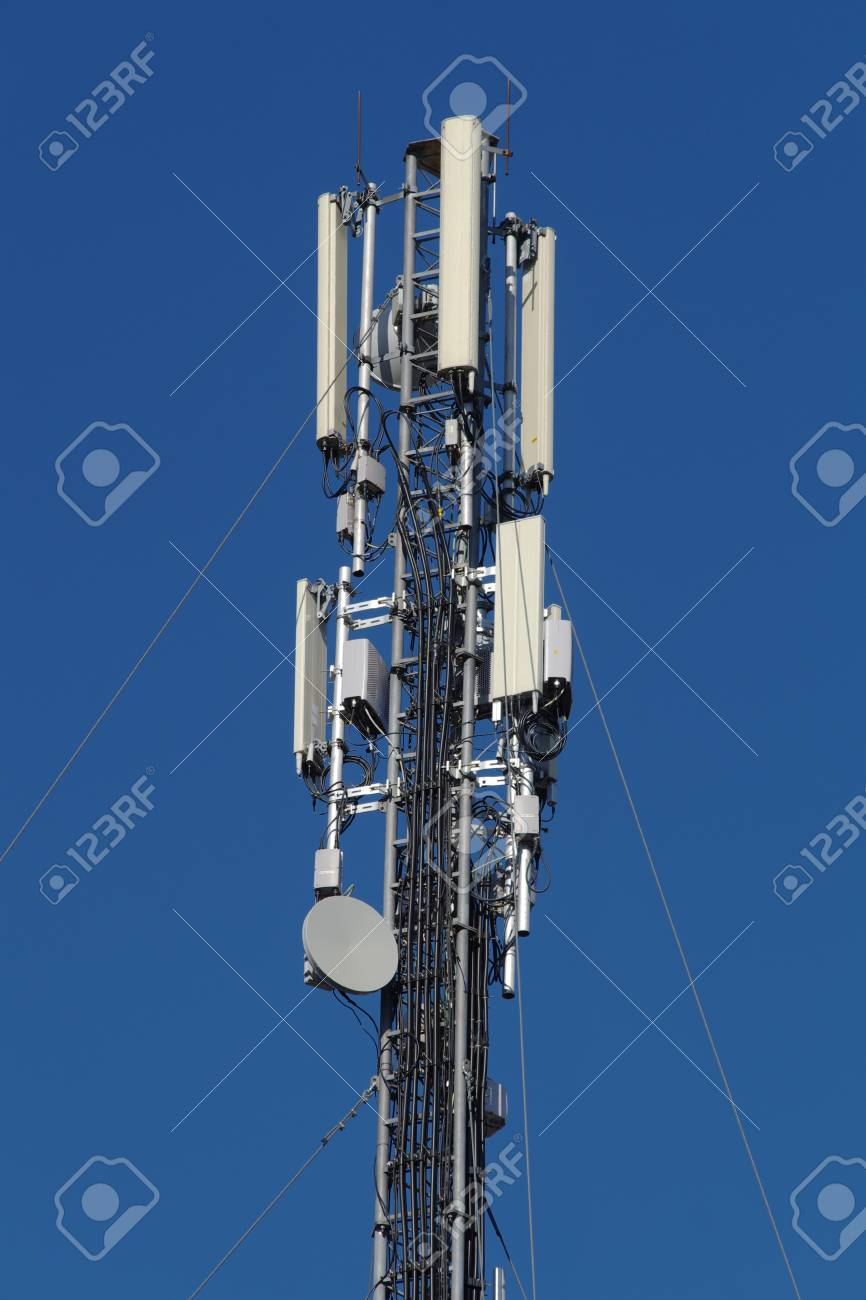ba: (296, 872, 396, 1004)
sa: (463, 480, 561, 736), (422, 84, 491, 401), (500, 201, 569, 475), (269, 528, 339, 769), (314, 171, 363, 445)
